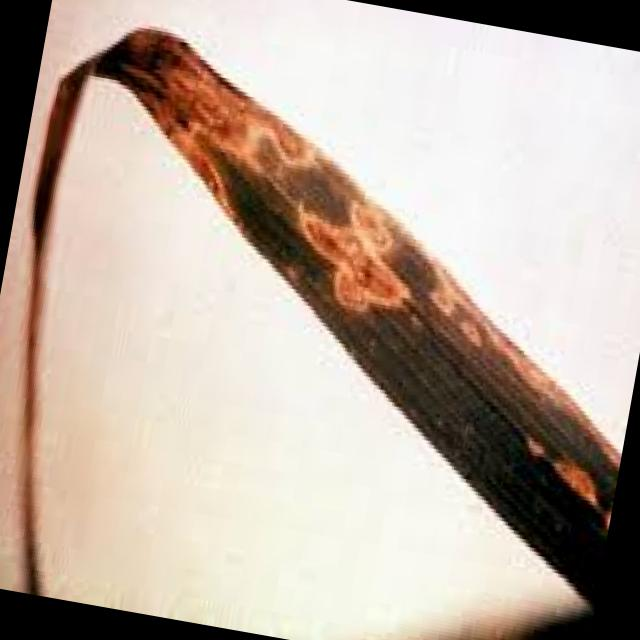leaf_blight: (23, 27, 619, 601)
